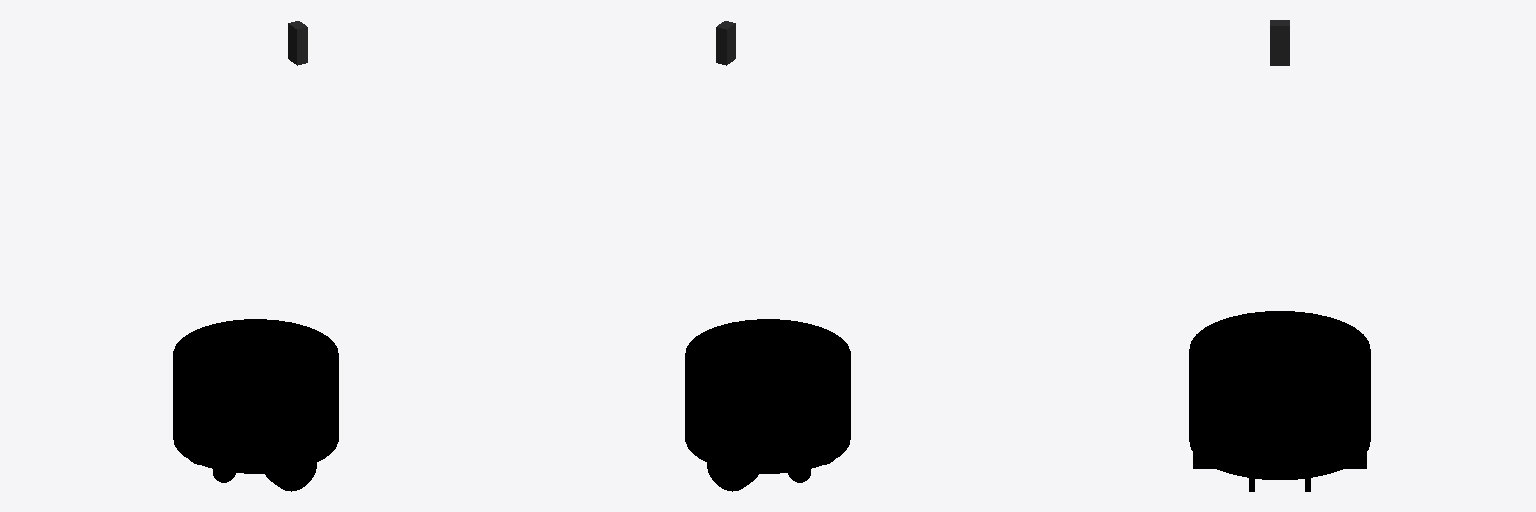
URDF robot description (base):
<?xml version="1.0" ?>
<!-- =================================================================================== -->
<!-- |    This document was autogenerated by xacro from xacro/ydrobot_agv.xacro        | -->
<!-- |    EDITING THIS FILE BY HAND IS NOT RECOMMENDED                                 | -->
<!-- =================================================================================== -->
<robot name="base">
  <!-- Defining the colors used in this robot -->
  <material name="yellow">
    <color rgba="1 0.4 0 1"/>
  </material>
  <material name="black">
    <color rgba="0 0 0 0.75"/>
  </material>
  <material name="gray">
    <color rgba="0.75 0.75 0.75 1"/>
  </material>
  <material name="white">
    <color rgba="1  1 1 0.85"/>
  </material>
  <link name="base_link">
    <visual>
      <origin rpy="0 0 0" xyz="0 0 0.13"/>
      <geometry>
        <cylinder length="0.26" radius="0.23"/>
      </geometry>
      <material name="black"/>
    </visual>
    <collision>
      <origin rpy="0 0 0" xyz="0 0 0.13"/>
      <geometry>
        <cylinder length="0.26" radius="0.23"/>
      </geometry>
    </collision>
  </link>
  <!--
        <joint name="dummy_joint" type="fixed">
            <origin xyz="0.20 0.0 ${base_length}" rpy="0.0 0.0 0.0"/>
            <parent link="base_link"/>
            <child link="base_link_rm"/>
        </joint>
        -->
  <joint name="right_wheel_joint" type="fixed">
    <origin rpy="1.5707963 0 0" xyz="0 -0.19 0"/>
    <parent link="base_link"/>
    <child link="right_wheel_link"/>
    <axis xyz="0 1 0"/>
  </joint>
  <link name="right_wheel_link">
    <visual>
      <origin rpy="0 0 0" xyz="0 0 0"/>
      <geometry>
        <cylinder length="0.06" radius="0.07"/>
      </geometry>
      <material name="black"/>
    </visual>
    <collision>
      <origin rpy="0 0 0" xyz="0 0 0"/>
      <geometry>
        <cylinder length="0.06" radius="0.07"/>
      </geometry>
    </collision>
  </link>
  <joint name="left_wheel_joint" type="fixed">
    <origin rpy="1.5707963 0 0" xyz="0 0.19 0"/>
    <parent link="base_link"/>
    <child link="left_wheel_link"/>
    <axis xyz="0 1 0"/>
  </joint>
  <link name="left_wheel_link">
    <visual>
      <origin rpy="0 0 0" xyz="0 0 0"/>
      <geometry>
        <cylinder length="0.06" radius="0.07"/>
      </geometry>
      <material name="black"/>
    </visual>
    <collision>
      <origin rpy="0 0 0" xyz="0 0 0"/>
      <geometry>
        <cylinder length="0.06" radius="0.07"/>
      </geometry>
    </collision>
  </link>
  <joint name="front_r_caster_joint" type="fixed">
    <origin rpy="1.5707963 0 0" xyz="-0.14 0.07 -0.035"/>
    <parent link="base_link"/>
    <child link="front_r"/>
    <axis xyz="0 1 0"/>
  </joint>
  <link name="front_r">
    <visual>
      <origin rpy="0 0 0" xyz="0 0 0"/>
      <geometry>
        <cylinder length="0.015" radius="0.035"/>
      </geometry>
      <material name="black"/>
    </visual>
    <collision>
      <origin rpy="0 0 0" xyz="0 0 0"/>
      <geometry>
        <cylinder length="0.015" radius="0.035"/>
      </geometry>
    </collision>
  </link>
  <joint name="front_l_caster_joint" type="fixed">
    <origin rpy="1.5707963 0 0" xyz="0.14 -0.07 -0.035"/>
    <parent link="base_link"/>
    <child link="front_l"/>
    <axis xyz="0 1 0"/>
  </joint>
  <link name="front_l">
    <visual>
      <origin rpy="0 0 0" xyz="0 0 0"/>
      <geometry>
        <cylinder length="0.015" radius="0.035"/>
      </geometry>
      <material name="black"/>
    </visual>
    <collision>
      <origin rpy="0 0 0" xyz="0 0 0"/>
      <geometry>
        <cylinder length="0.015" radius="0.035"/>
      </geometry>
    </collision>
  </link>
  <joint name="back_r_caster_joint" type="fixed">
    <origin rpy="1.5707963 0 0" xyz="-0.14 -0.07 -0.035"/>
    <parent link="base_link"/>
    <child link="back_r"/>
    <axis xyz="0 1 0"/>
  </joint>
  <link name="back_r">
    <visual>
      <origin rpy="0 0 0" xyz="0 0 0"/>
      <geometry>
        <cylinder length="0.015" radius="0.035"/>
      </geometry>
      <material name="black"/>
    </visual>
    <collision>
      <origin rpy="0 0 0" xyz="0 0 0"/>
      <geometry>
        <cylinder length="0.015" radius="0.035"/>
      </geometry>
    </collision>
  </link>
  <joint name="back_l_caster_joint" type="fixed">
    <origin rpy="1.5707963 0 0" xyz="0.14 0.07 -0.035"/>
    <parent link="base_link"/>
    <child link="back_l"/>
    <axis xyz="0 1 0"/>
  </joint>
  <link name="back_l">
    <visual>
      <origin rpy="0 0 0" xyz="0 0 0"/>
      <geometry>
        <cylinder length="0.015" radius="0.035"/>
      </geometry>
      <material name="black"/>
    </visual>
    <collision>
      <origin rpy="0 0 0" xyz="0 0 0"/>
      <geometry>
        <cylinder length="0.015" radius="0.035"/>
      </geometry>
    </collision>
  </link>
  <link name="base_link_rm">
    <inertial>
      <origin rpy="0 0 0" xyz="-0.000433277303987328 -3.54664423471128E-05 0.0599427668933796"/>
      <mass value="0.841070778135659"/>
      <inertia ixx="0.0017261110801622" ixy="2.52746264980217E-06" ixz="-3.67690303614961E-05" iyy="0.00170987405835604" iyz="1.67996364994424E-06" izz="0.000904023422915791"/>
    </inertial>
    <visual>
      <origin rpy="0 0 0" xyz="0 0 0"/>
      <geometry>
        <mesh filename="package://rm_description/meshes/RM65/base_link.STL"/>
      </geometry>
      <material name="">
        <color rgba="1 1 1 1"/>
      </material>
    </visual>
    <collision>
      <origin rpy="0 0 0" xyz="0 0 0"/>
      <geometry>
        <mesh filename="package://rm_description/meshes/RM65/base_link.STL"/>
      </geometry>
    </collision>
  </link>
  <gazebo reference="base_link_rm">
    <mu1 value="200000.0"/>
    <mu2 value="200000.0"/>
    <kp value="100000000.0"/>
    <kd value="1.0"/>
  </gazebo>
  <joint name="dummy_joint" type="fixed">
    <origin rpy="0.0 0.0 0.0" xyz="0.135 0.0 0.26"/>
    <parent link="base_link"/>
    <child link="base_link_rm"/>
  </joint>
  <link name="Link1">
    <inertial>
      <origin rpy="0 0 0" xyz="1.2226305431569E-08 0.0211079974844683 -0.0251854220842269"/>
      <mass value="0.593563443690403"/>
      <inertia ixx="0.00126614120341847" ixy="-1.294980943835E-08" ixz="-9.80120923066996E-09" iyy="0.00118168178300364" iyz="-0.00021121727444415" izz="0.00056135241627747"/>
    </inertial>
    <visual>
      <origin rpy="0 0 0" xyz="0 0 0"/>
      <geometry>
        <mesh filename="package://rm_description/meshes/RM65/link1.STL"/>
      </geometry>
      <material name="">
        <color rgba="1 1 1 1"/>
      </material>
    </visual>
    <collision>
      <origin rpy="0 0 0" xyz="0 0 0"/>
      <geometry>
        <mesh filename="package://rm_description/meshes/RM65/link1.STL"/>
      </geometry>
    </collision>
  </link>
  <joint name="joint1" type="revolute">
    <origin rpy="0 0 0" xyz="0 0 0.2405"/>
    <parent link="base_link_rm"/>
    <child link="Link1"/>
    <axis xyz="0 0 1"/>
    <limit effort="60" lower="-3.1" upper="3.1" velocity="3.14"/>
    <dynamics damping="50" friction="1"/>
  </joint>
  <link name="Link2">
    <inertial>
      <origin rpy="0 0 0" xyz="0.152256463426163 4.75383656106654E-07 -0.00620260383607792"/>
      <mass value="0.864175046869043"/>
      <inertia ixx="0.00089150298478414" ixy="-2.23268489334765E-08" ixz="0.00156246461035015" iyy="0.00733754343083901" iyz="6.28110889329165E-09" izz="0.00697869103915473"/>
    </inertial>
    <visual>
      <origin rpy="0 0 0" xyz="0 0 0"/>
      <geometry>
        <mesh filename="package://rm_description/meshes/RM65/link2.STL"/>
      </geometry>
      <material name="">
        <color rgba="1 1 1 1"/>
      </material>
    </visual>
    <collision>
      <origin rpy="0 0 0" xyz="0 0 0"/>
      <geometry>
        <mesh filename="package://rm_description/meshes/RM65/link2.STL"/>
      </geometry>
    </collision>
  </link>
  <joint name="joint2" type="revolute">
    <origin rpy="1.5708 -1.5708 0" xyz="0 0 0"/>
    <parent link="Link1"/>
    <child link="Link2"/>
    <axis xyz="0 0 1"/>
    <limit effort="60" lower="-2.268" upper="2.268" velocity="3.14"/>
    <dynamics damping="50" friction="1"/>
  </joint>
  <link name="Link3">
    <inertial>
      <origin rpy="0 0 0" xyz="5.05312670989961E-06 -0.0595925663694732 0.010569069212336"/>
      <mass value="0.289633681624654"/>
      <inertia ixx="0.00063737100450158" ixy="-7.05261293649751E-08" ixz="-3.86643272239426E-08" iyy="0.00015648388095025" iyz="-0.00014461035994916" izz="0.000614178164773085"/>
    </inertial>
    <visual>
      <origin rpy="0 0 0" xyz="0 0 0"/>
      <geometry>
        <mesh filename="package://rm_description/meshes/RM65/link3.STL"/>
      </geometry>
      <material name="">
        <color rgba="1 1 1 1"/>
      </material>
    </visual>
    <collision>
      <origin rpy="0 0 0" xyz="0 0 0"/>
      <geometry>
        <mesh filename="package://rm_description/meshes/RM65/link3.STL"/>
      </geometry>
    </collision>
  </link>
  <joint name="joint3" type="revolute">
    <origin rpy="0 0 1.5708" xyz="0.256 0 0"/>
    <parent link="Link2"/>
    <child link="Link3"/>
    <axis xyz="0 0 1"/>
    <limit effort="30" lower="-2.355" upper="2.355" velocity="3.92"/>
    <dynamics damping="50" friction="1"/>
  </joint>
  <link name="Link4">
    <inertial>
      <origin rpy="0 0 0" xyz="1.15516617405898E-06 -0.0180424468598241 -0.0215394748352687"/>
      <mass value="0.239419768320061"/>
      <inertia ixx="0.000285938919722783" ixy="3.07101359163101E-09" ixz="-2.21994118981953E-09" iyy="0.000262727540304212" iyz="4.4236583260078E-05" izz="0.000119888082791859"/>
    </inertial>
    <visual>
      <origin rpy="0 0 0" xyz="0 0 0"/>
      <geometry>
        <mesh filename="package://rm_description/meshes/RM65/link4.STL"/>
      </geometry>
      <material name="">
        <color rgba="1 1 1 1"/>
      </material>
    </visual>
    <collision>
      <origin rpy="0 0 0" xyz="0 0 0"/>
      <geometry>
        <mesh filename="package://rm_description/meshes/RM65/link4.STL"/>
      </geometry>
    </collision>
  </link>
  <joint name="joint4" type="revolute">
    <origin rpy="1.5708 0 0" xyz="0 -0.21 0"/>
    <parent link="Link3"/>
    <child link="Link4"/>
    <axis xyz="0 0 1"/>
    <limit effort="10" lower="-3.1" upper="3.1" velocity="3.92"/>
    <dynamics damping="50" friction="1"/>
  </joint>
  <link name="Link5">
    <inertial>
      <origin rpy="0 0 0" xyz="3.19794786262152E-06 -0.0593808368101458 0.00736804250989326"/>
      <mass value="0.218799761431678"/>
      <inertia ixx="0.000350540363914072" ixy="-3.41781619975602E-08" ixz="-1.77056457224373E-08" iyy="0.000104927867487581" iyz="-7.82431228461971E-05" izz="0.000334482418423629"/>
    </inertial>
    <visual>
      <origin rpy="0 0 0" xyz="0 0 0"/>
      <geometry>
        <mesh filename="package://rm_description/meshes/RM65/link5.STL"/>
      </geometry>
      <material name="">
        <color rgba="1 1 1 1"/>
      </material>
    </visual>
    <collision>
      <origin rpy="0 0 0" xyz="0 0 0"/>
      <geometry>
        <mesh filename="package://rm_description/meshes/RM65/link5.STL"/>
      </geometry>
    </collision>
  </link>
  <joint name="joint5" type="revolute">
    <origin rpy="-1.5708 0 0" xyz="0 0 0"/>
    <parent link="Link4"/>
    <child link="Link5"/>
    <axis xyz="0 0 1"/>
    <limit effort="10" lower="-2.233" upper="2.233" velocity="3.92"/>
    <dynamics damping="50" friction="1"/>
  </joint>
  <link name="Link6">
    <inertial>
      <origin rpy="0 0 0" xyz="0.000714234511756999 -0.000396718732824521 -0.0126723660946126"/>
      <mass value="0.0649018034311231"/>
      <inertia ixx="2.02766547502765E-05" ixy="-1.32505200276849E-06" ixz="-2.5845091522508E-08" iyy="1.87986725225022E-05" iyz="3.39471452125439E-09" izz="3.17885459163081E-05"/>
    </inertial>
    <visual>
      <origin rpy="0 0 0" xyz="0 0 0"/>
      <geometry>
        <mesh filename="package://rm_description/meshes/RM65/link6.STL"/>
      </geometry>
      <material name="">
        <color rgba="1 1 1 1"/>
      </material>
    </visual>
    <collision>
      <origin rpy="0 0 0" xyz="0 0 0"/>
      <geometry>
        <mesh filename="package://rm_description/meshes/RM65/link6.STL"/>
      </geometry>
    </collision>
  </link>
  <joint name="joint6" type="revolute">
    <origin rpy="1.5708 0 0" xyz="0 -0.144 0"/>
    <parent link="Link5"/>
    <child link="Link6"/>
    <axis xyz="0 0 1"/>
    <limit effort="10" lower="-6.28" upper="6.28" velocity="3.92"/>
    <dynamics damping="50" friction="1"/>
  </joint>
  <!-- tool -->
  <link name="tool0"/>
  <joint name="joint_tool0" type="fixed">
    <origin rpy="0 0 0" xyz="0 0 0.015"/>
    <parent link="Link6"/>
    <child link="tool0"/>
  </joint>
  <!-- tool_frame -->
  <link name="ee_link"/>
  <joint name="joint_ee_link" type="fixed">
    <origin rpy="0 0 0" xyz="0 0 0.14"/>
    <parent link="Link6"/>
    <child link="ee_link"/>
  </joint>
  <material name="aluminum">
    <color rgba="0.5 0.5 0.5 1"/>
  </material>
  <material name="plastic">
    <color rgba="0.1 0.1 0.1 1"/>
  </material>
  <!-- camera body, with origin at bottom screw mount -->
  <joint name="camera_joint" type="fixed">
    <origin rpy="0 -1.57 0" xyz="-0.05 0 0"/>
    <parent link="tool0"/>
    <child link="camera_bottom_screw_frame"/>
  </joint>
  <link name="camera_bottom_screw_frame"/>
  <joint name="camera_link_joint" type="fixed">
    <origin rpy="0 0 0" xyz="0 0.02 0.0115"/>
    <parent link="camera_bottom_screw_frame"/>
    <child link="camera_link"/>
  </joint>
  <link name="camera_link">
    <visual>
      <origin rpy="1.5707963267948966 0 1.5707963267948966" xyz="0.00987 -0.02 0"/>
      <geometry>
        <mesh filename="package://realsense2_description/meshes/d415.stl"/>
      </geometry>
      <material name="aluminum"/>
    </visual>
    <collision>
      <origin rpy="0 0 0" xyz="0 -0.02 0"/>
      <geometry>
        <box size="0.02005 0.099 0.023"/>
      </geometry>
    </collision>
    <inertial>
      <mass value="0.072"/>
      <!-- The following are not reliable values, and should not be used for modeling -->
      <origin xyz="0 0 0"/>
      <inertia ixx="0.003881243" ixy="0.0" ixz="0.0" iyy="0.000498940" iyz="0.0" izz="0.003879257"/>
    </inertial>
  </link>
  <!-- gripper -->
  <link name="gripper_link">
    <visual>
      <origin rpy="0 0 0" xyz="0 0 0.055"/>
      <material name="">
        <color rgba="0.2 0.2 0.2 1"/>
      </material>
      <geometry>
        <box size="0.035 0.05 0.11"/>
      </geometry>
    </visual>
    <!-- <collision>
        <origin xyz="0 0 0.055" rpy="0 0 0"/>
        <geometry>
            <box size="0.035 0.05 0.11"/>
        </geometry>
      </collision> -->
  </link>
  <joint name="joint_gripper" type="fixed">
    <origin rpy="0 0 0" xyz="0 0 0"/>
    <parent link="tool0"/>
    <child link="gripper_link"/>
  </joint>
  <transmission name="tran1">
    <type>transmission_interface/SimpleTransmission</type>
    <joint name="joint1">
      <hardwareInterface>hardware_interface/PositionJointInterface</hardwareInterface>
    </joint>
    <actuator name="motor1">
      <hardwareInterface>hardware_interface/PositionJointInterface</hardwareInterface>
      <mechanicalReduction>1</mechanicalReduction>
    </actuator>
  </transmission>
  <transmission name="tran1">
    <type>transmission_interface/SimpleTransmission</type>
    <joint name="joint2">
      <hardwareInterface>hardware_interface/PositionJointInterface</hardwareInterface>
    </joint>
    <actuator name="motor1">
      <hardwareInterface>hardware_interface/PositionJointInterface</hardwareInterface>
      <mechanicalReduction>1</mechanicalReduction>
    </actuator>
  </transmission>
  <transmission name="tran1">
    <type>transmission_interface/SimpleTransmission</type>
    <joint name="joint3">
      <hardwareInterface>hardware_interface/PositionJointInterface</hardwareInterface>
    </joint>
    <actuator name="motor1">
      <hardwareInterface>hardware_interface/PositionJointInterface</hardwareInterface>
      <mechanicalReduction>1</mechanicalReduction>
    </actuator>
  </transmission>
  <transmission name="tran1">
    <type>transmission_interface/SimpleTransmission</type>
    <joint name="joint4">
      <hardwareInterface>hardware_interface/PositionJointInterface</hardwareInterface>
    </joint>
    <actuator name="motor1">
      <hardwareInterface>hardware_interface/PositionJointInterface</hardwareInterface>
      <mechanicalReduction>1</mechanicalReduction>
    </actuator>
  </transmission>
  <transmission name="tran1">
    <type>transmission_interface/SimpleTransmission</type>
    <joint name="joint5">
      <hardwareInterface>hardware_interface/PositionJointInterface</hardwareInterface>
    </joint>
    <actuator name="motor1">
      <hardwareInterface>hardware_interface/PositionJointInterface</hardwareInterface>
      <mechanicalReduction>1</mechanicalReduction>
    </actuator>
  </transmission>
  <transmission name="tran1">
    <type>transmission_interface/SimpleTransmission</type>
    <joint name="joint6">
      <hardwareInterface>hardware_interface/PositionJointInterface</hardwareInterface>
    </joint>
    <actuator name="motor1">
      <hardwareInterface>hardware_interface/PositionJointInterface</hardwareInterface>
      <mechanicalReduction>1</mechanicalReduction>
    </actuator>
  </transmission>
  <!-- ros_control plugin -->
  <gazebo>
    <plugin filename="libgazebo_ros_control.so" name="gazebo_ros_control">
      <robotNamespace>/arm</robotNamespace>
      <robotSimType>gazebo_ros_control/DefaultRobotHWSim</robotSimType>
      <legacyModeNS>true</legacyModeNS>
    </plugin>
  </gazebo>
</robot>

--- Facts derived from the render (not from the file) ---
3 views of the same robot in one strip: view 1: azimuth 30°, elevation 25°; view 2: azimuth 150°, elevation 25°; view 3: azimuth 270°, elevation 25° (orthographic).
Robot: base — 19 links, 18 joints (6 revolute, 12 fixed); root link base_link; default pose: all joints at 0.
Links seen in each view (by area): view 1: base_link, right_wheel_link, gripper_link; view 2: base_link, left_wheel_link, gripper_link; view 3: base_link, gripper_link.
Boxes of the visible links, left/top/right/bottom form: base_link: left=173, top=319, right=338, bottom=473; right_wheel_link: left=265, top=454, right=316, bottom=491; gripper_link: left=288, top=21, right=307, bottom=65; base_link: left=685, top=319, right=850, bottom=473; left_wheel_link: left=707, top=454, right=758, bottom=491; gripper_link: left=716, top=21, right=735, bottom=65; base_link: left=1189, top=311, right=1370, bottom=479; gripper_link: left=1270, top=20, right=1289, bottom=65.
Bounding box of the posed robot: 0.46 × 0.46 × 1.31 m (x, y, z).
Meshes: 8 distinct files referenced, 0 mesh visuals loaded (none loaded); not drawn: 8 (reference not matched to a file when rendering).